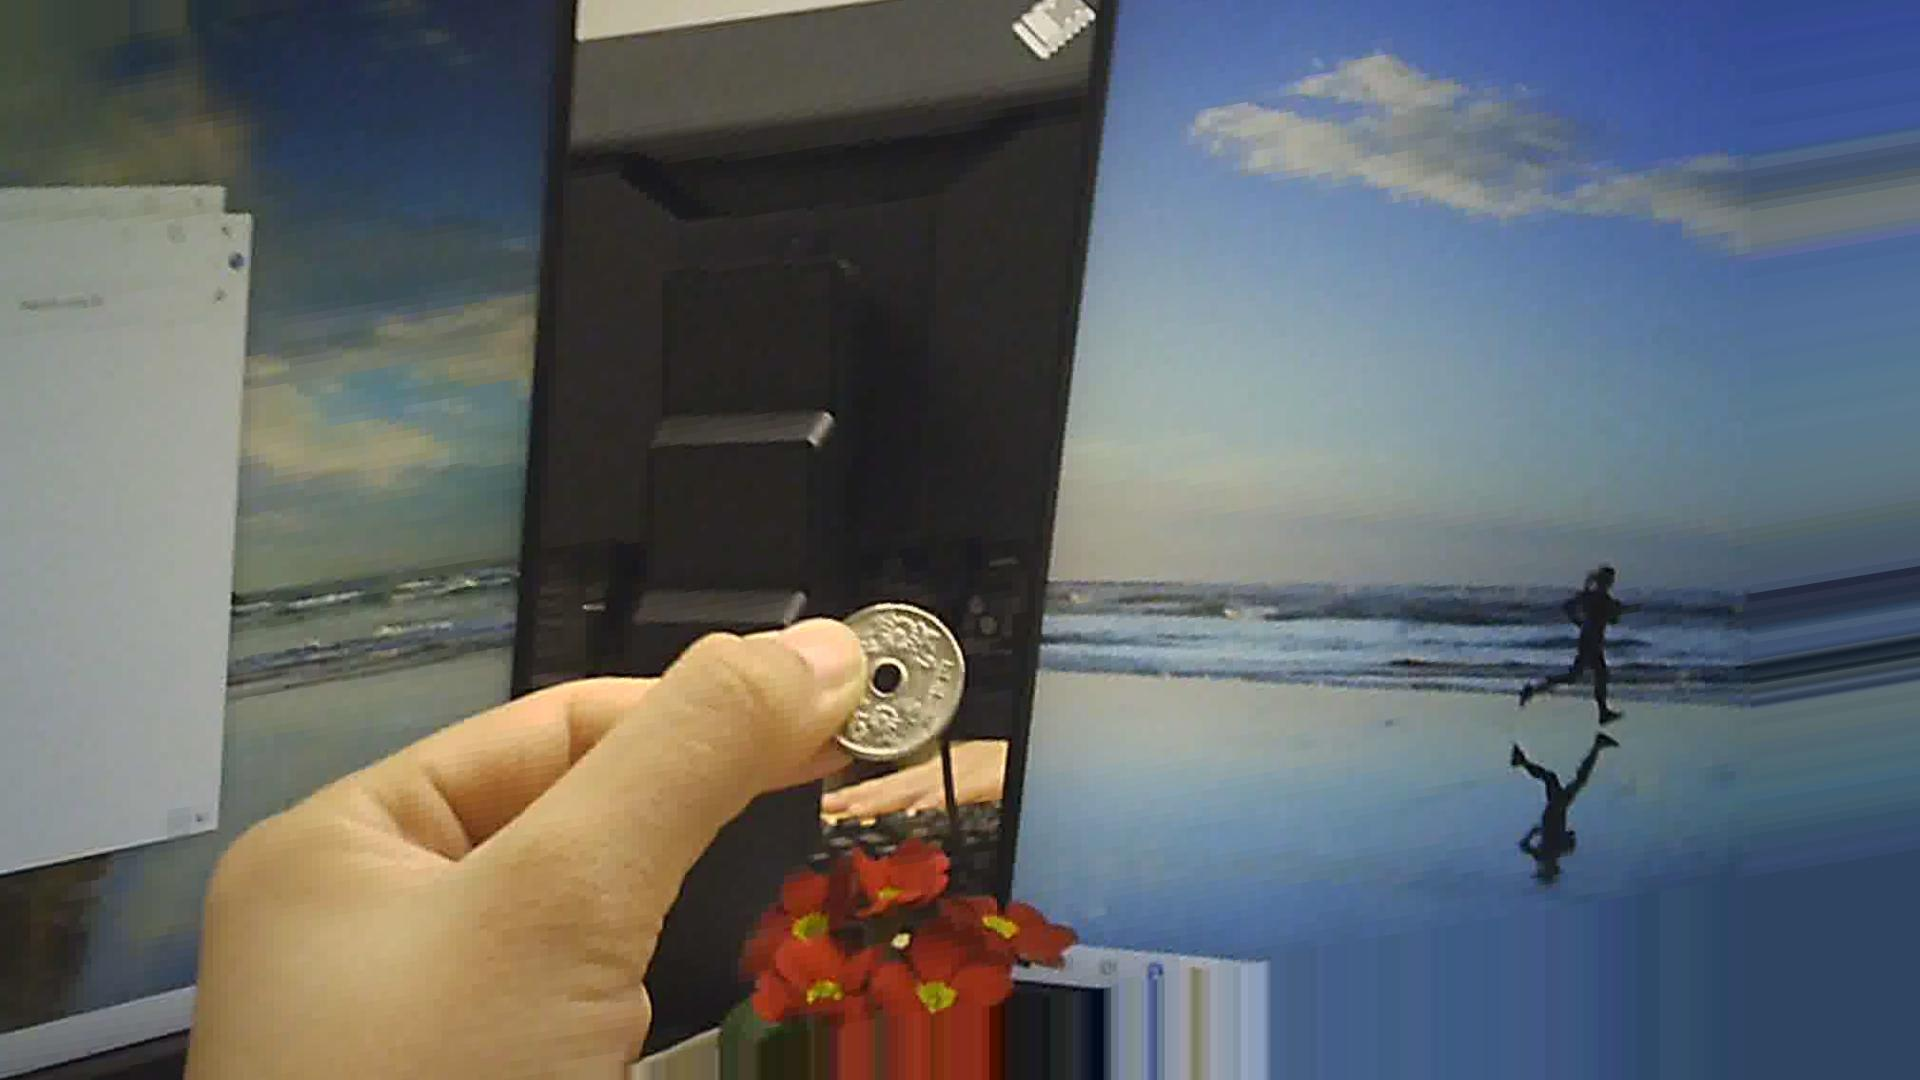50 Yen: (807, 591, 975, 758)
